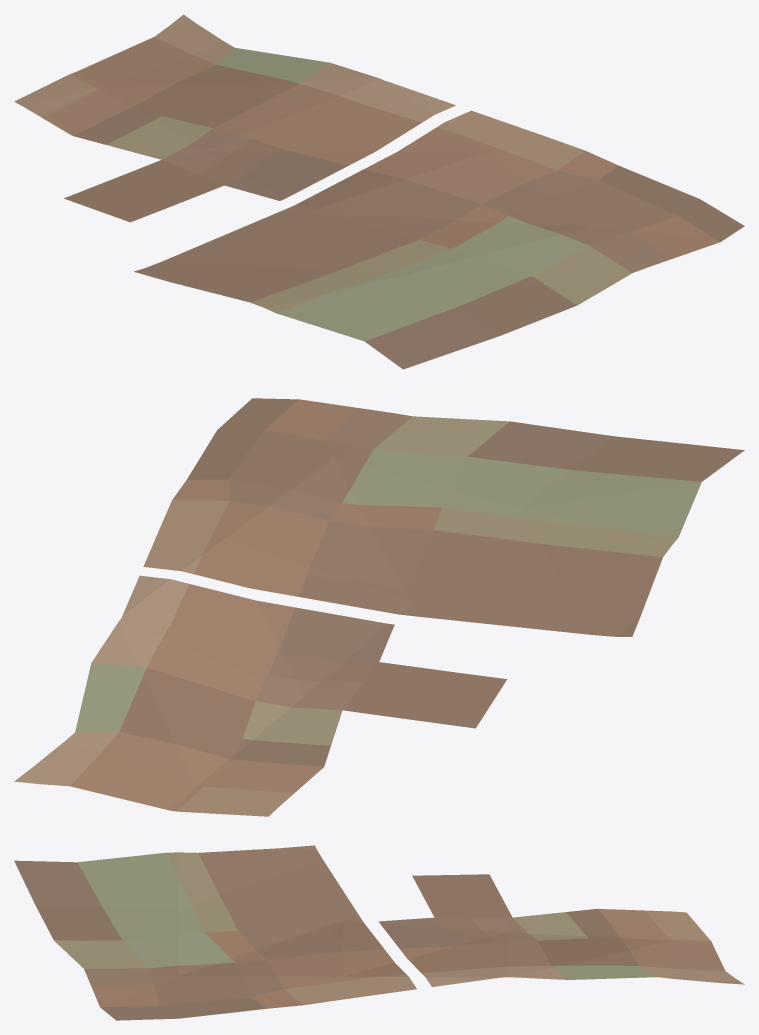
Rendered from farm_-2_9_soil.glb.
The picture shows the model from 3 angles, top to bottom: view 1: azimuth 30°, elevation 25°; view 2: azimuth 150°, elevation 25°; view 3: azimuth 270°, elevation 25°; orthographic projection. The views are drawn at different scales.
Parts seen in each view (by area): view 1: geometry_0; view 2: geometry_0; view 3: geometry_0.
Boxes of the visible parts, x1,y1,x2,y2 form: geometry_0: (14, 14, 744, 369); geometry_0: (14, 398, 744, 816); geometry_0: (14, 845, 744, 1020).
Size of the model in its own units: 218 by 21.48 by 356.
